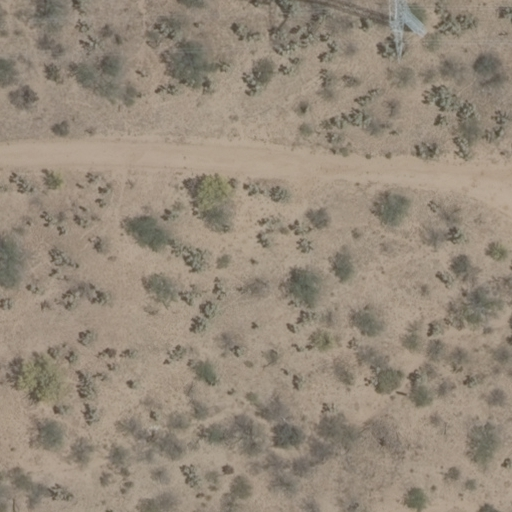TT: (383, 2, 438, 64)
